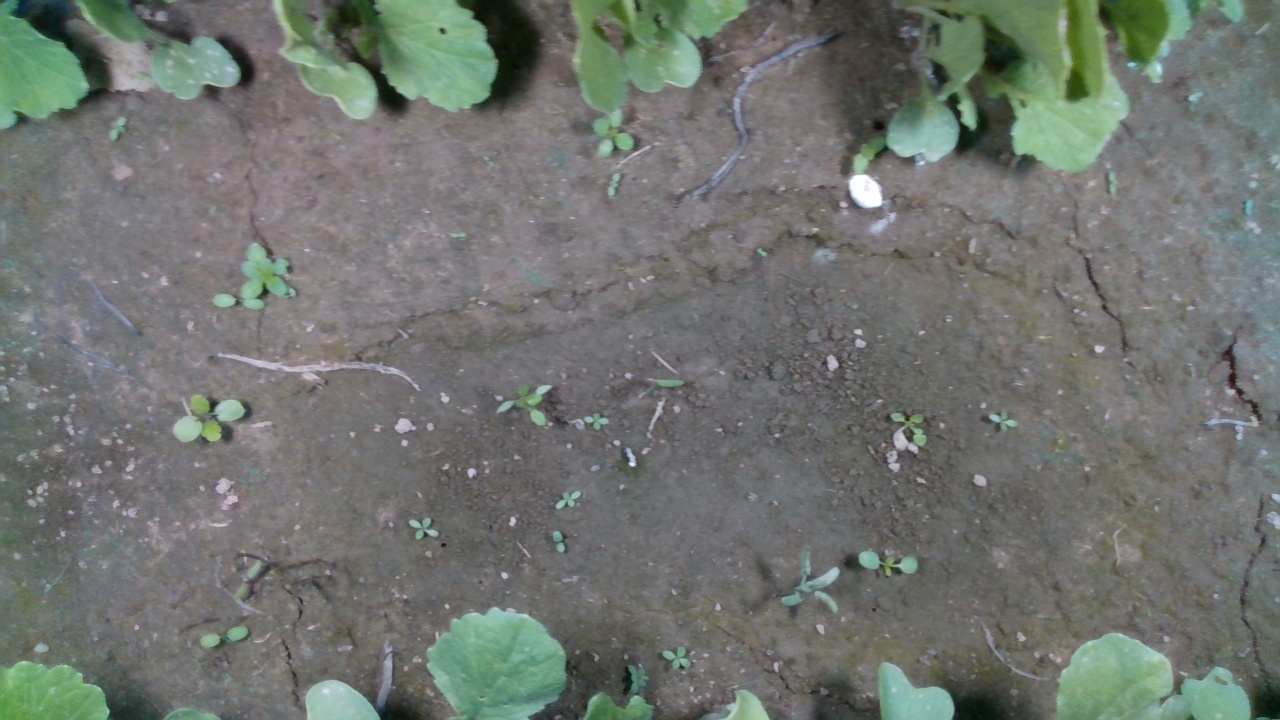weed: (170, 391, 248, 444), (857, 549, 919, 580), (232, 557, 262, 602), (198, 624, 250, 649), (407, 515, 440, 542), (985, 409, 1019, 435), (660, 645, 692, 671), (554, 488, 581, 511), (106, 114, 127, 142), (582, 412, 610, 432), (606, 171, 621, 199), (551, 530, 566, 554)
